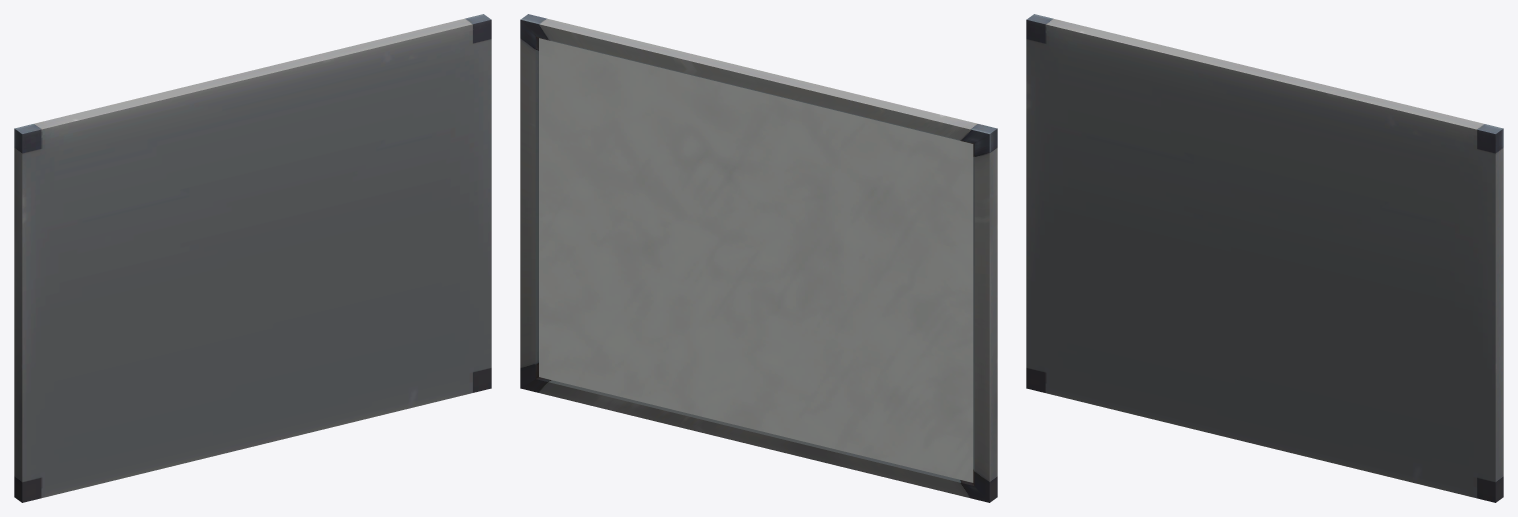
File: OfficeWhiteBoard01.fbx
The picture shows the model from 3 angles, left to right: view 1: azimuth 30°, elevation 25°; view 2: azimuth 150°, elevation 25°; view 3: azimuth 330°, elevation 25°; orthographic projection.
Visible parts, largest first — view 1: OfficeWhiteBoard01; view 2: OfficeWhiteBoard01; view 3: OfficeWhiteBoard01.
Boxes of the visible parts, <box> form: OfficeWhiteBoard01: <box>14,14,491,502</box>; OfficeWhiteBoard01: <box>520,14,997,502</box>; OfficeWhiteBoard01: <box>1026,14,1503,502</box>.
Size of the model in its own units: 1.5 by 1.13 by 0.0433.
1 material, 1 textured.
